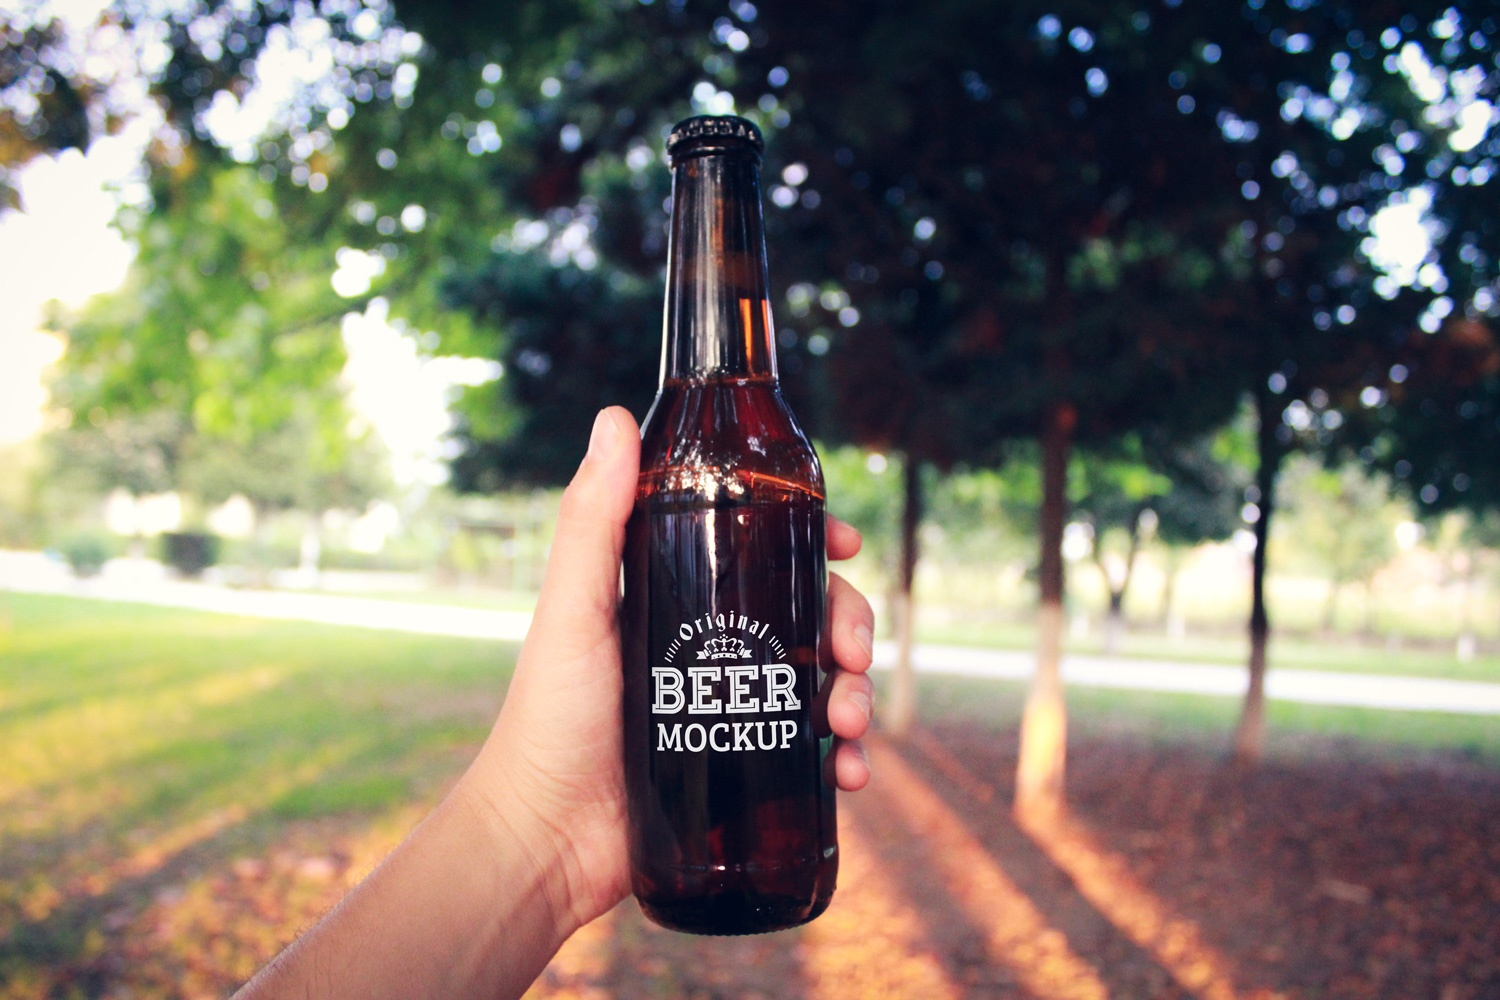beerBottle: (629, 129, 842, 921)
